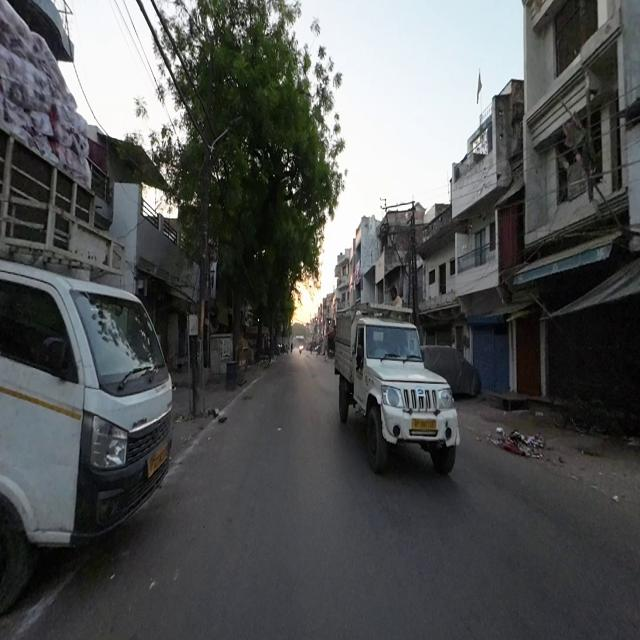Garbage: (497, 426, 548, 458)
